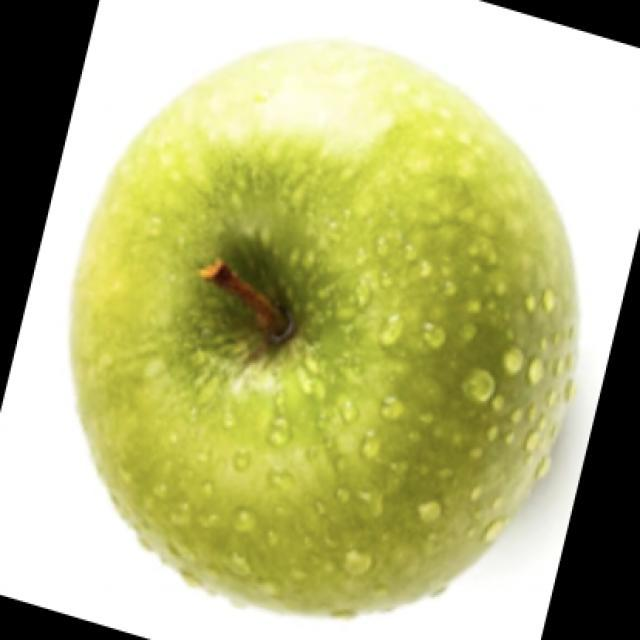Fresh Apple: (127, 70, 570, 598)
